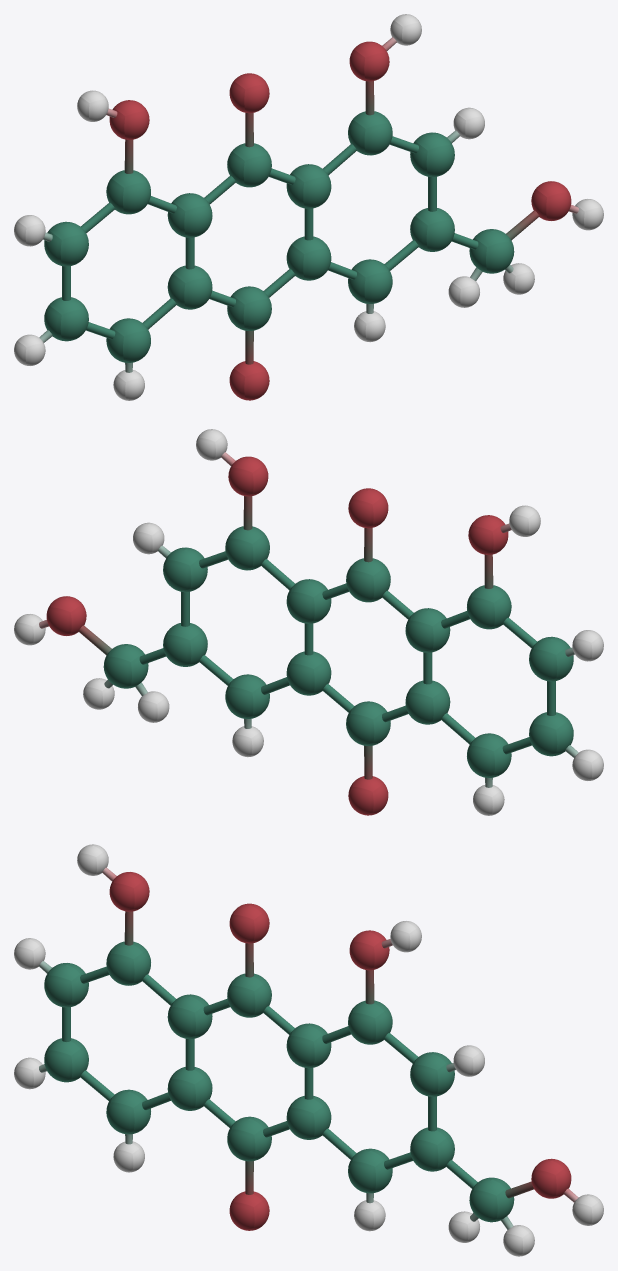
The model's file is Aloe-emodin.fbx.
3 renders of one model, top to bottom at view 1: azimuth 30°, elevation 25°; view 2: azimuth 150°, elevation 25°; view 3: azimuth 330°, elevation 25°, orthographic.
Parts seen in each view (by area): view 1: curMeshHyperballExportedMesh; view 2: curMeshHyperballExportedMesh; view 3: curMeshHyperballExportedMesh.
Boxes of the visible parts, x1,y1,x2,y2 form: curMeshHyperballExportedMesh: [14, 14, 603, 400]; curMeshHyperballExportedMesh: [14, 429, 603, 815]; curMeshHyperballExportedMesh: [14, 844, 603, 1256].
Bounding box in the file's own units: 8.54 × 4.8 × 0.5667.
